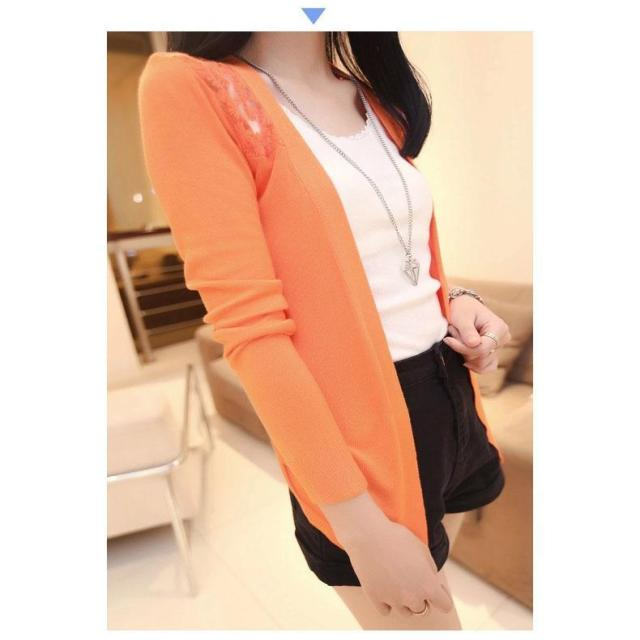long sleeve outwear: (147, 54, 426, 554)
shorts: (269, 337, 505, 572)
